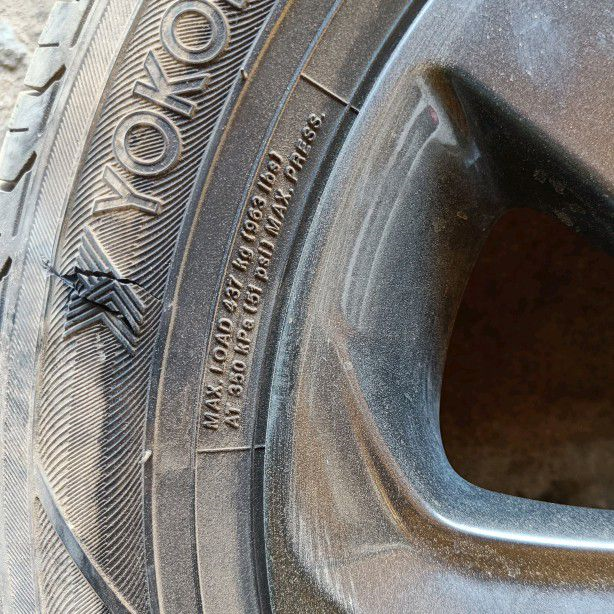cut: (34, 257, 171, 349)
